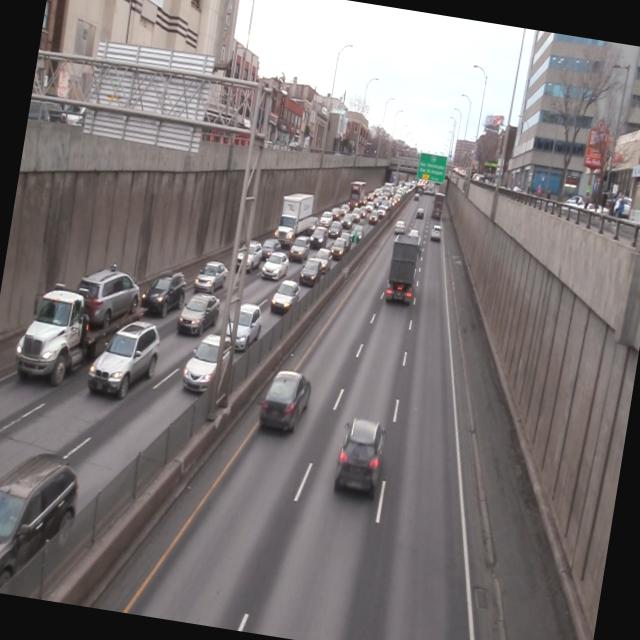Vehicle: (10, 257, 148, 401), (0, 445, 83, 603), (84, 316, 164, 413), (332, 415, 392, 502), (260, 364, 315, 440), (182, 332, 232, 398), (382, 232, 423, 309), (140, 266, 190, 322), (274, 188, 315, 244), (176, 293, 220, 341), (224, 304, 262, 350), (192, 256, 231, 298), (269, 279, 301, 318), (233, 237, 263, 278), (260, 248, 288, 284), (298, 258, 321, 289), (289, 234, 310, 263), (259, 238, 281, 262)
